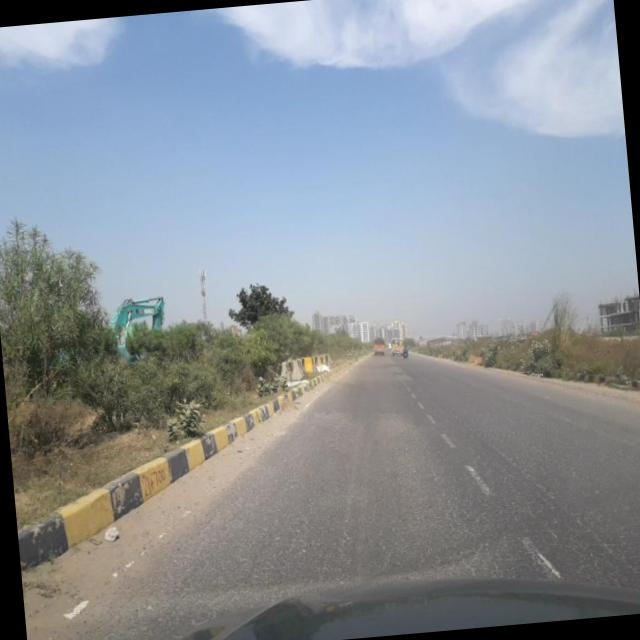crack: (106, 386, 640, 608)
